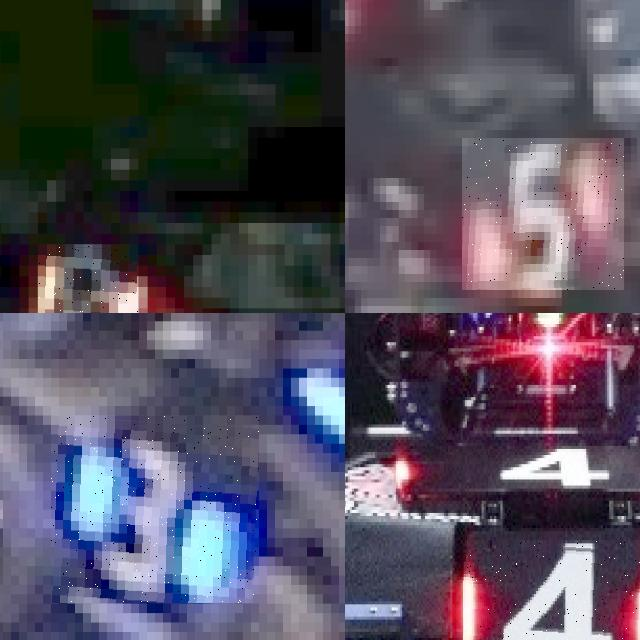B3: (51, 416, 259, 604)
R4: (463, 540, 640, 640)
R5: (462, 138, 624, 290)
Rs: (37, 244, 138, 313)
